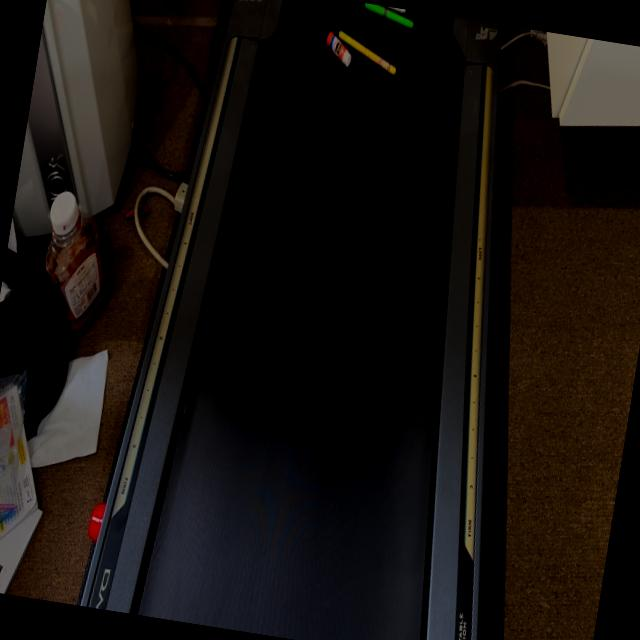Trash: (320, 0, 422, 97)
